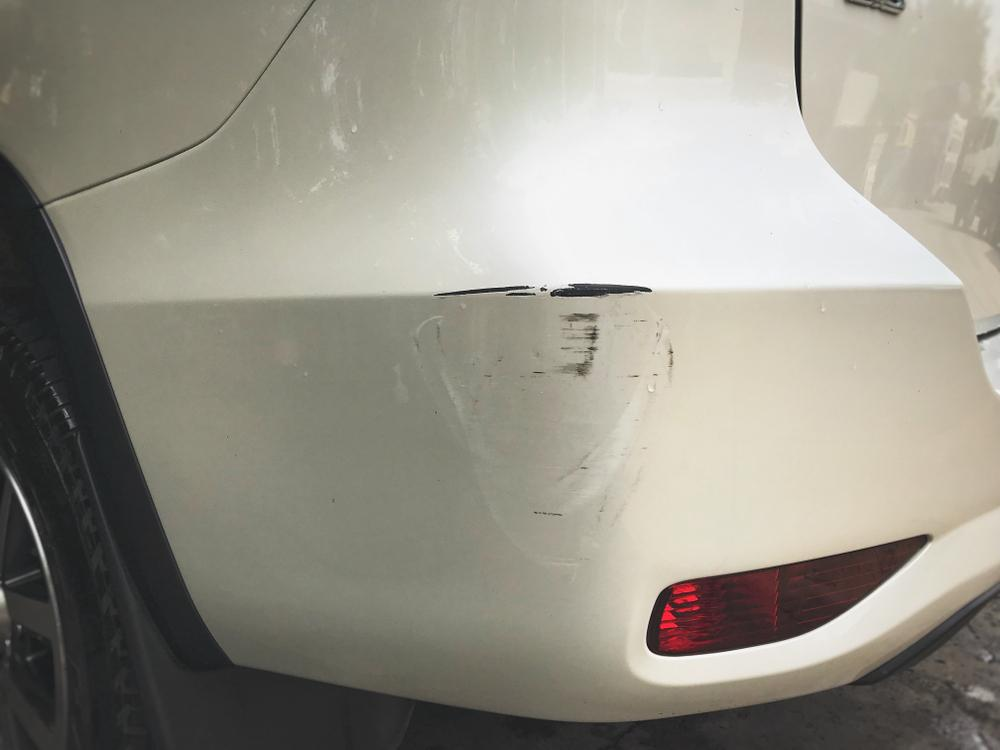scratch: (420, 277, 678, 570)
